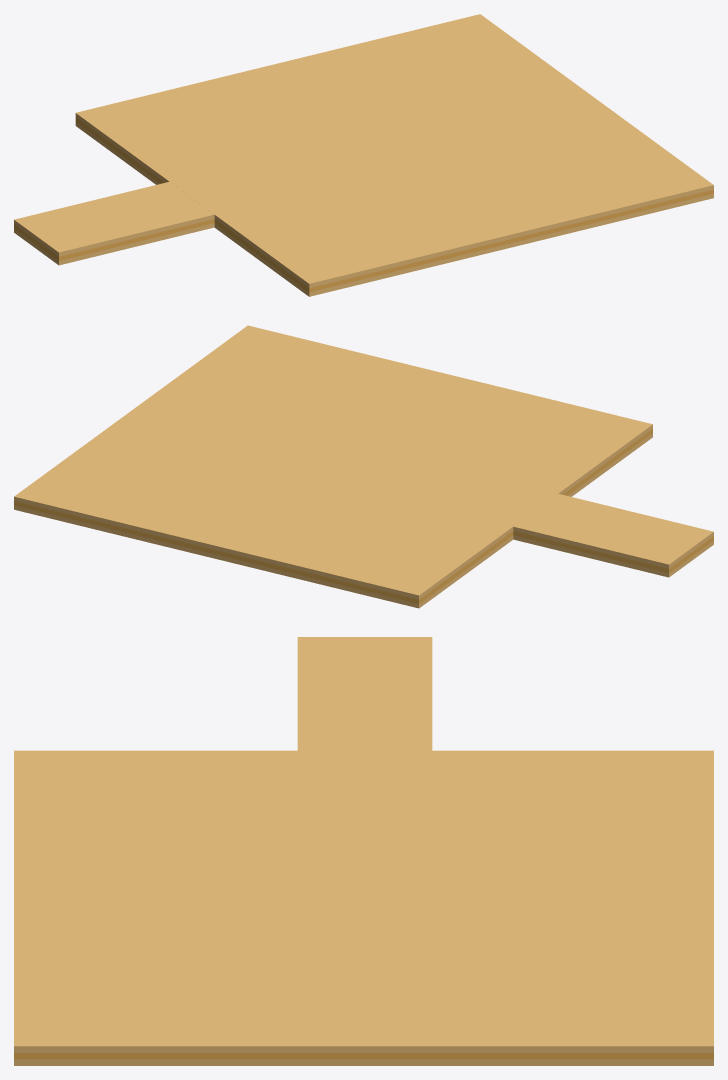
File: Res01_resFloor.fbx
3 views of the same model, one above another, from view 1: azimuth 30°, elevation 25°; view 2: azimuth 150°, elevation 25°; view 3: azimuth 270°, elevation 25° (orthographic). The views are drawn at different scales.
Visible parts, largest first — view 1: Res01_resFloor; view 2: Res01_resFloor; view 3: Res01_resFloor.
Part boxes in pixels (<box>): Res01_resFloor: <box>14,14,713,296</box>; Res01_resFloor: <box>14,325,713,608</box>; Res01_resFloor: <box>14,637,713,1065</box>.
Bounding box in the file's own units: 3599 × 80 × 2600.
